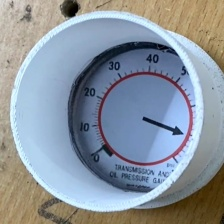gauge: (70, 42, 196, 194)
